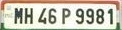character: (37, 7, 47, 25), (74, 8, 84, 25), (85, 8, 95, 25), (13, 7, 22, 25), (24, 7, 33, 25), (61, 7, 70, 25), (48, 8, 57, 24), (95, 8, 104, 24), (107, 8, 114, 25)
